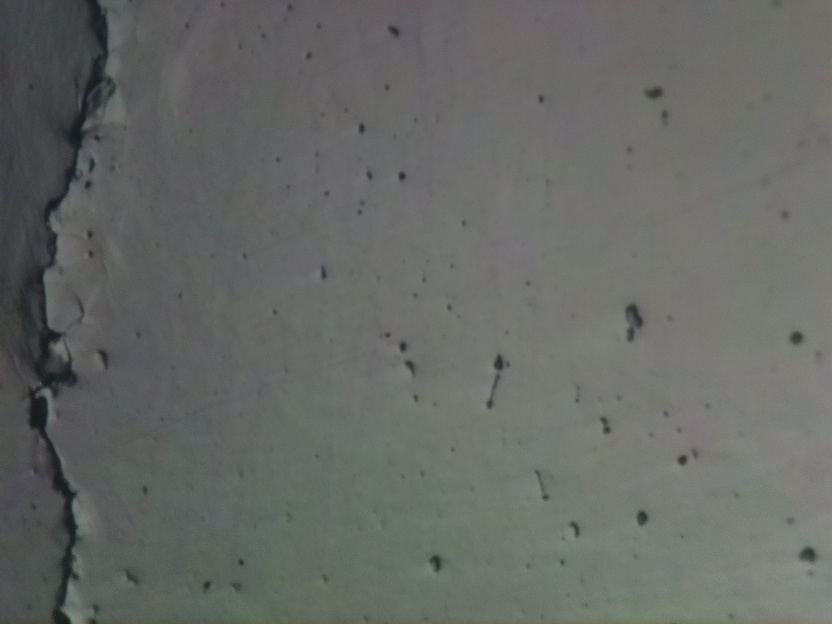crack: (30, 0, 109, 624)
